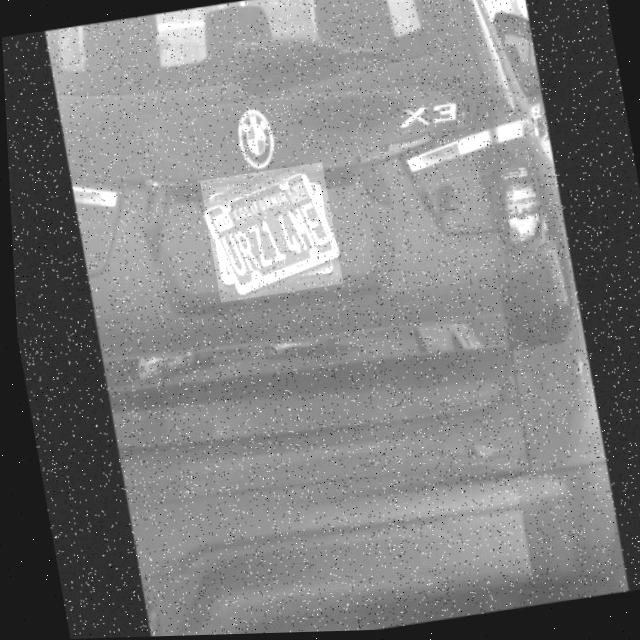LicensePlate: (196, 163, 340, 304)
